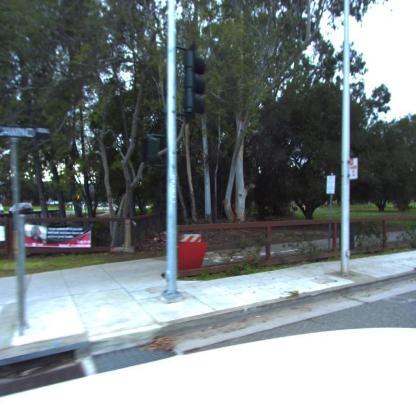traffic light: (191, 55, 207, 117)
